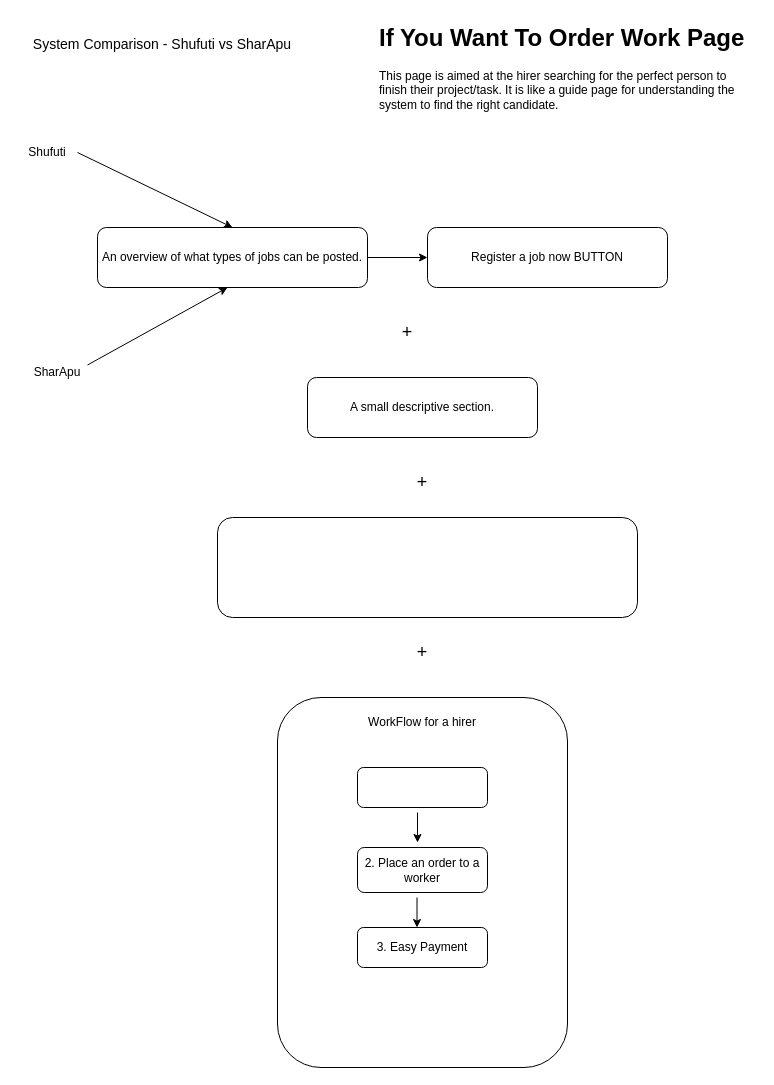
The diagram is 774 pixels wide and 1085 high, and some of its shapes have lost their labels. The shapes that lost their labels are listed below. From the top down, each one's centre as x and y in pixels, then its label:
[427,567]: Mascot and link to show what customers say about Shufuti and SharApu.
[422,787]: 1. Register a job
